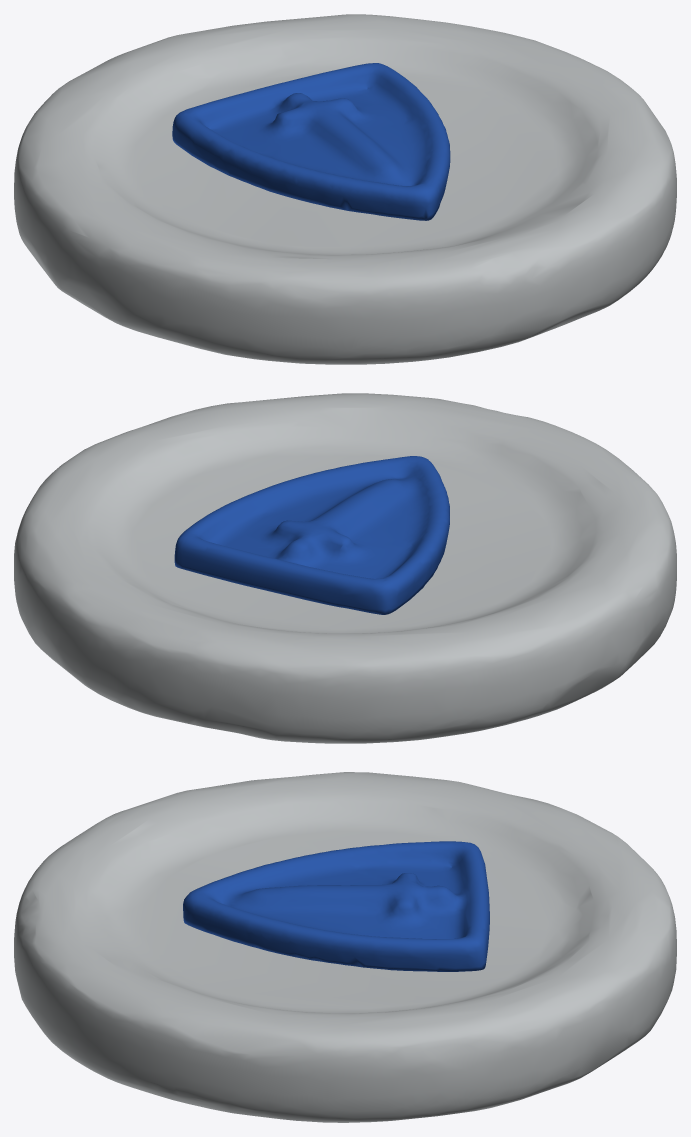
Rendered from token-warrior-blue.glb.
The picture shows the model from 3 angles, top to bottom: view 1: azimuth 30°, elevation 25°; view 2: azimuth 150°, elevation 25°; view 3: azimuth 270°, elevation 25°; orthographic projection.
Parts seen in each view (by area): view 1: token_warrior_blue; view 2: token_warrior_blue; view 3: token_warrior_blue.
Part boxes in pixels (left/top/right/bottom): token_warrior_blue: left=14, top=14, right=676, bottom=364; token_warrior_blue: left=14, top=393, right=676, bottom=743; token_warrior_blue: left=14, top=772, right=676, bottom=1122.
Size of the model in its own units: 0.4139 by 0.0744 by 0.414.
